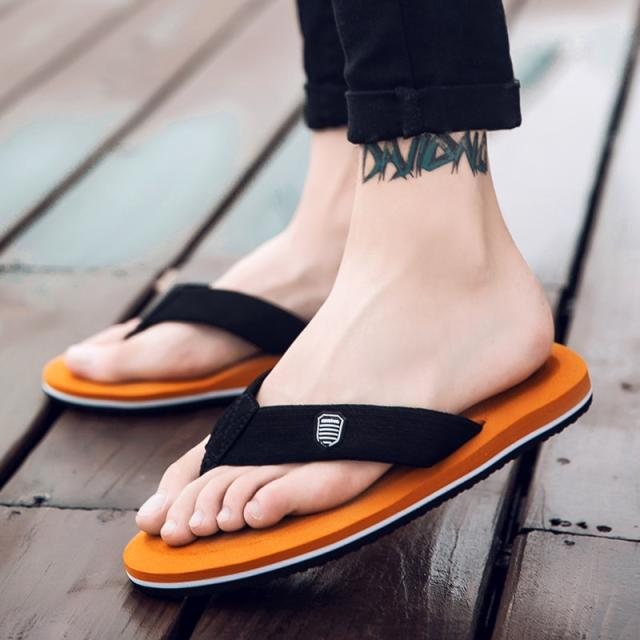Sandals: (103, 298, 597, 606)
